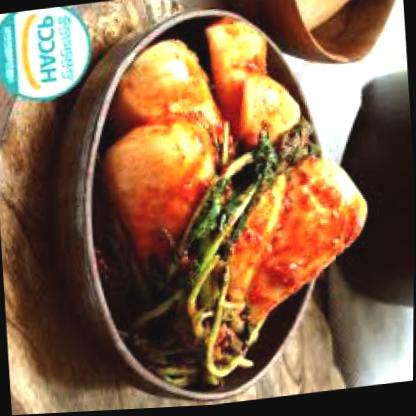chonggak Kimchi: (91, 13, 368, 358)
